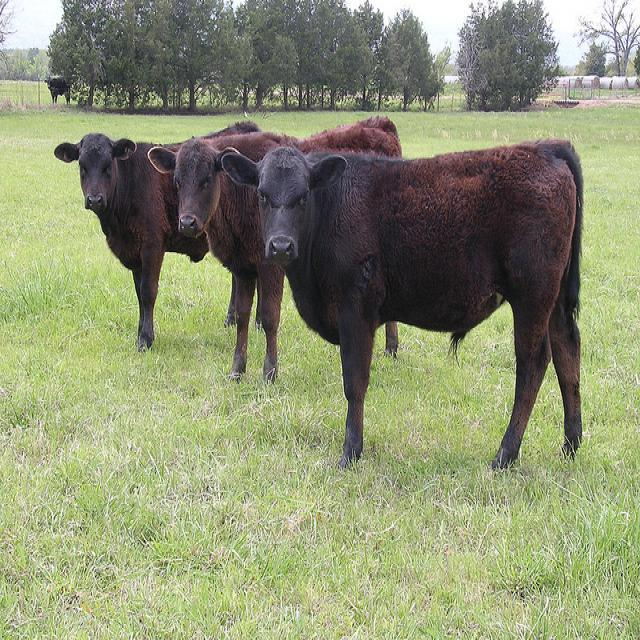cow: (220, 138, 581, 470), (146, 113, 401, 383), (52, 119, 260, 351), (43, 75, 69, 101)
